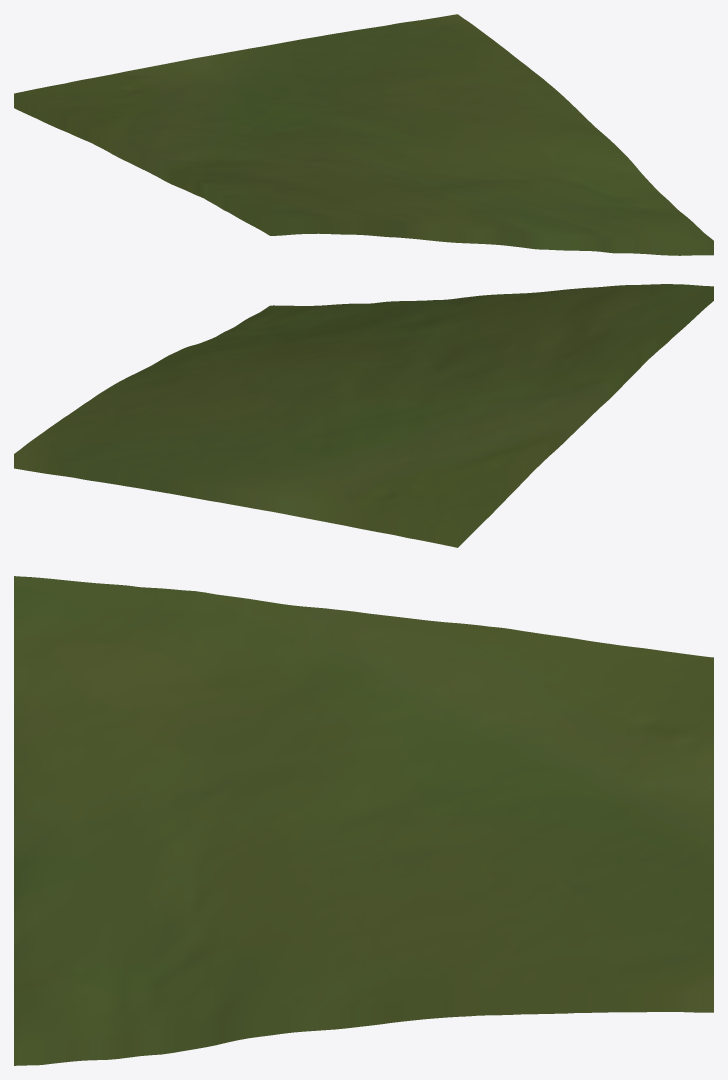
The model's file is terrain_5_-8.glb.
3 views of the same model, one above another, from view 1: azimuth 30°, elevation 25°; view 2: azimuth 150°, elevation 25°; view 3: azimuth 270°, elevation 25° (orthographic). The views are drawn at different scales.
Visible parts, largest first — view 1: terrain_5_-8; view 2: terrain_5_-8; view 3: terrain_5_-8.
Part boxes in pixels (bbox=[...]): terrain_5_-8: bbox=[14, 14, 713, 255]; terrain_5_-8: bbox=[14, 284, 713, 547]; terrain_5_-8: bbox=[14, 576, 713, 1065].
Size of the model in its own units: 256 by 78.31 by 256.
